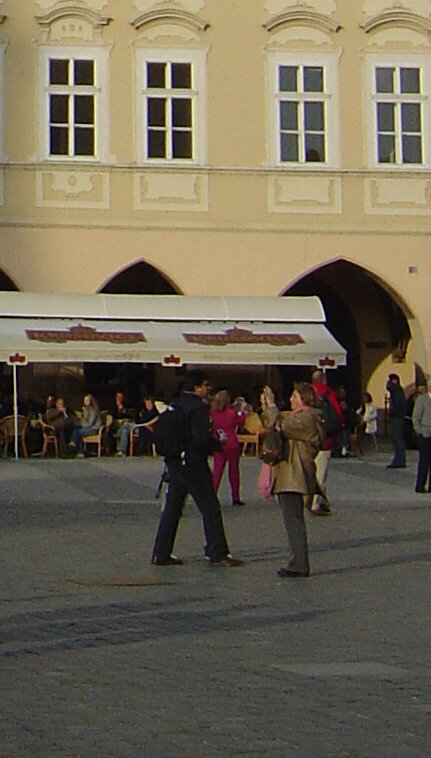person: (151, 366, 248, 573), (255, 379, 350, 579)
